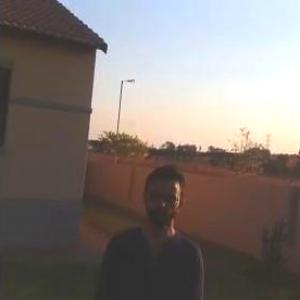follow: (85, 152, 206, 299)
